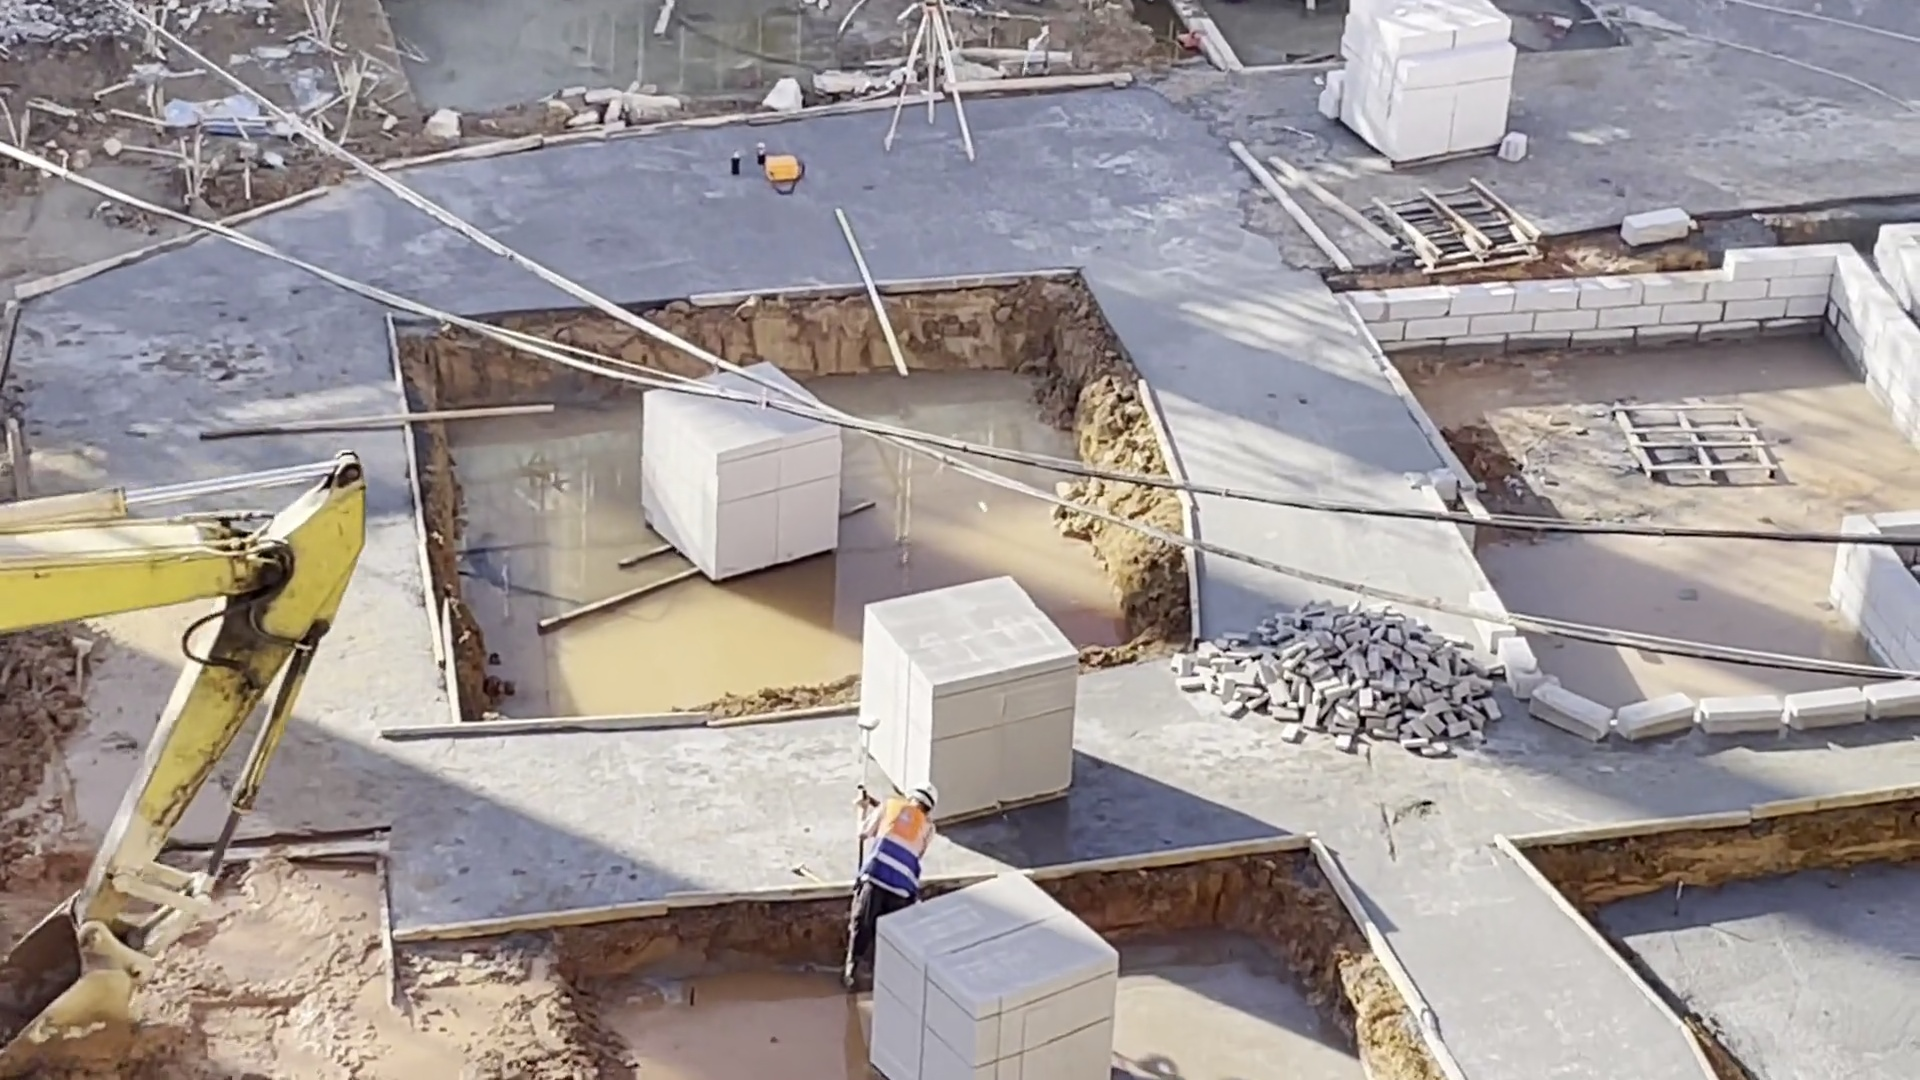brick: (857, 857, 1123, 1080), (1180, 595, 1516, 766), (849, 572, 1084, 813), (622, 352, 843, 584), (1325, 1, 1520, 169)
helmet: (915, 781, 944, 814)
person: (853, 776, 952, 972)
vest: (872, 817, 932, 931)
